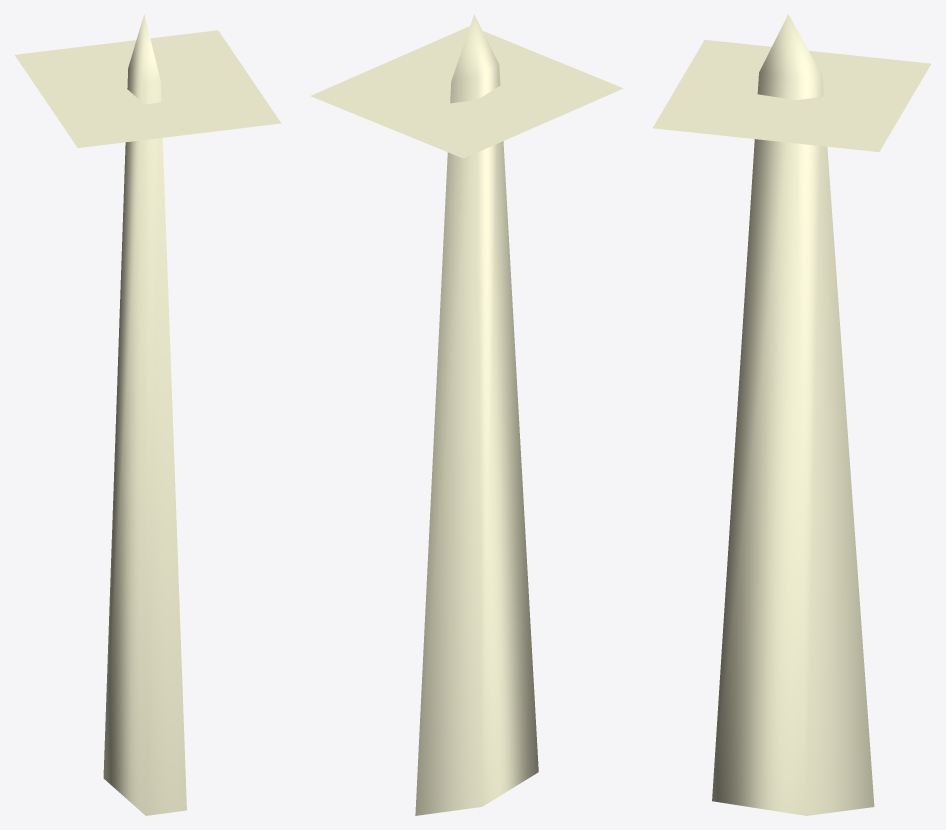
Rendered from lightshaftb.obj.
The picture shows the model from 3 angles, left to right: view 1: azimuth 30°, elevation 25°; view 2: azimuth 150°, elevation 25°; view 3: azimuth 270°, elevation 25°; orthographic projection.
Bounding box in the file's own units: 2.96 × 9.64 × 3.11.
Materials: 1 (1 with a texture image).
